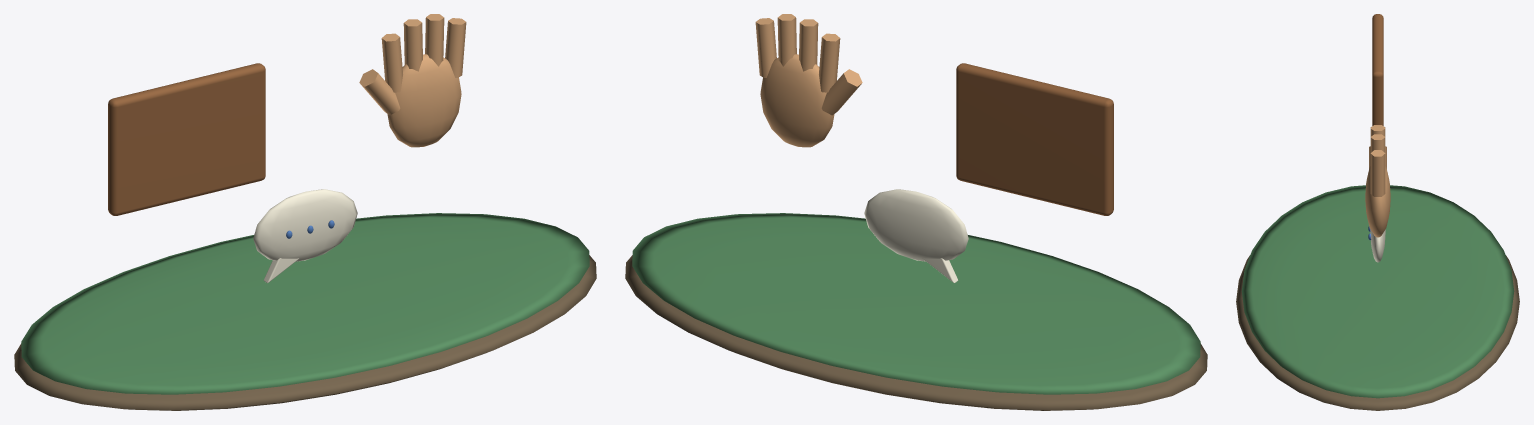
File: complete-first-display-show-message.glb
The picture shows the model from 3 angles, left to right: view 1: azimuth 30°, elevation 25°; view 2: azimuth 150°, elevation 25°; view 3: azimuth 270°, elevation 25°; orthographic projection. The views are drawn at different scales.
Parts seen in each view (by area): view 1: complete-first-display-show-message_surface_01, complete-first-display-show-message_surface_02, complete-first-display-show-message_surface_00, complete-first-display-show-message_surface_03, complete-first-display-show-message_surface_04; view 2: complete-first-display-show-message_surface_01, complete-first-display-show-message_surface_02, complete-first-display-show-message_surface_00, complete-first-display-show-message_surface_03, complete-first-display-show-message_surface_04; view 3: complete-first-display-show-message_surface_01, complete-first-display-show-message_surface_00, complete-first-display-show-message_surface_03, complete-first-display-show-message_surface_02, complete-first-display-show-message_surface_04.
Part boxes in pixels (box(x1,y1,x2,y2)): complete-first-display-show-message_surface_01: box(21, 213, 589, 394); complete-first-display-show-message_surface_02: box(108, 63, 265, 215); complete-first-display-show-message_surface_00: box(14, 255, 596, 410); complete-first-display-show-message_surface_03: box(359, 14, 466, 147); complete-first-display-show-message_surface_04: box(253, 189, 357, 282); complete-first-display-show-message_surface_01: box(632, 213, 1200, 394); complete-first-display-show-message_surface_02: box(956, 63, 1113, 215); complete-first-display-show-message_surface_00: box(625, 255, 1207, 410); complete-first-display-show-message_surface_03: box(755, 14, 862, 147); complete-first-display-show-message_surface_04: box(864, 189, 968, 282); complete-first-display-show-message_surface_01: box(1241, 185, 1514, 398); complete-first-display-show-message_surface_00: box(1236, 255, 1519, 410); complete-first-display-show-message_surface_03: box(1365, 125, 1390, 237); complete-first-display-show-message_surface_02: box(1372, 14, 1383, 125); complete-first-display-show-message_surface_04: box(1370, 229, 1385, 262).
Bounding box in the file's own units: 4.56 × 2.22 × 2.5.
